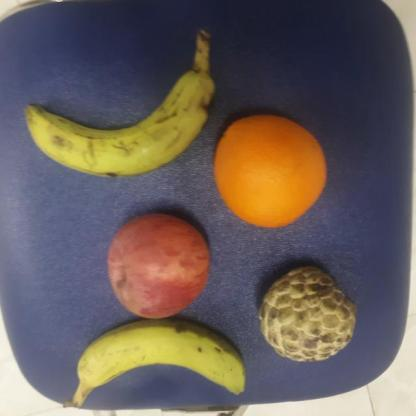annona: (257, 263, 363, 365)
apple: (104, 213, 211, 319)
banana: (24, 69, 215, 179), (74, 316, 246, 401)
orange: (210, 112, 329, 231)
